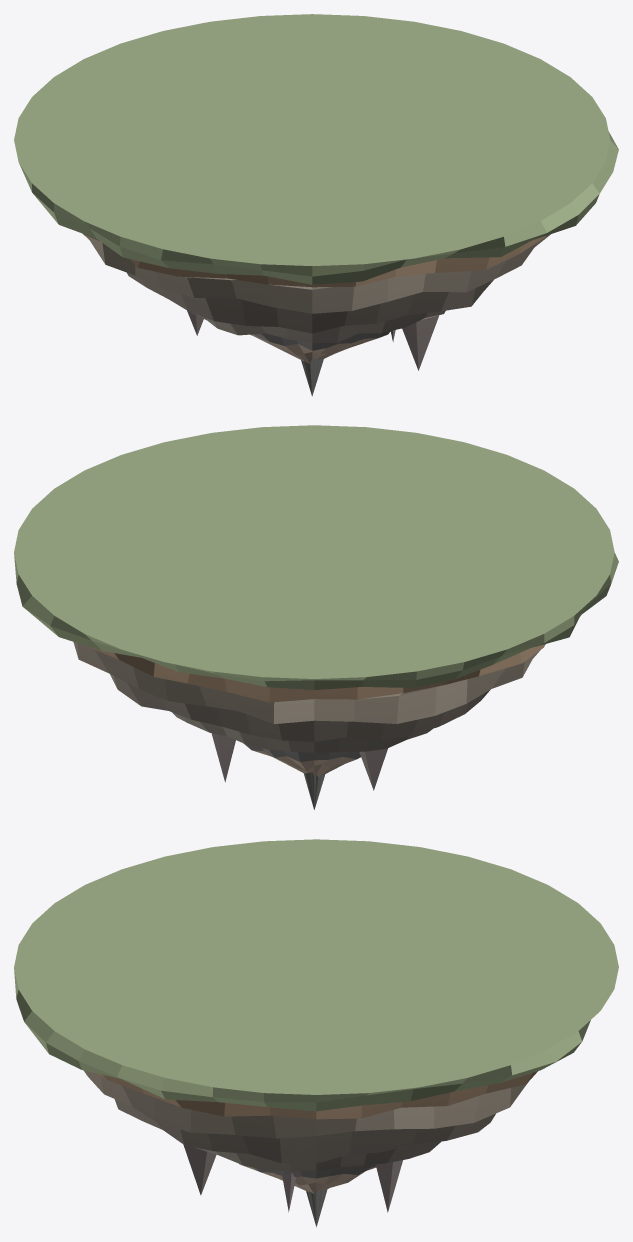
The model's file is iv_under_b.glb.
The picture shows the model from 3 angles, top to bottom: view 1: azimuth 30°, elevation 25°; view 2: azimuth 150°, elevation 25°; view 3: azimuth 270°, elevation 25°; orthographic projection.
Parts seen in each view (by area): view 1: iv_under_b; view 2: iv_under_b; view 3: iv_under_b.
Part boxes in pixels (box(x1,y1,x2,y2)): iv_under_b: box(14, 14, 618, 396); iv_under_b: box(14, 425, 618, 809); iv_under_b: box(14, 839, 618, 1227).
Bounding box in the file's own units: 2 × 0.95 × 2.
